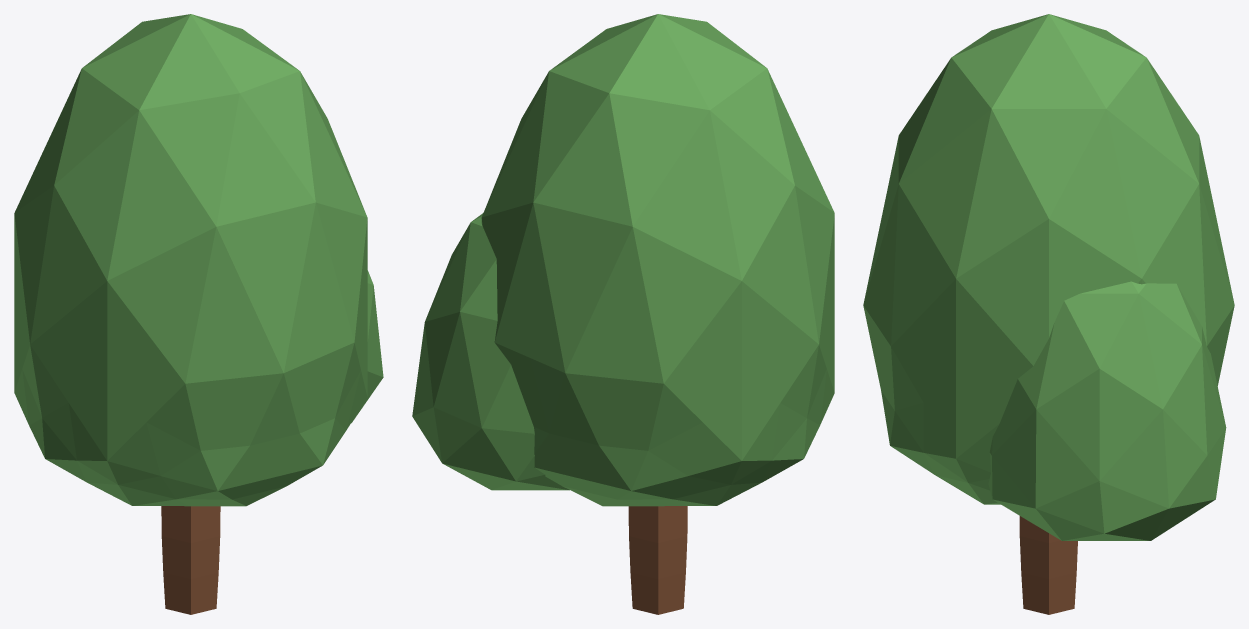
File: tree.glb
The picture shows the model from 3 angles, left to right: view 1: azimuth 30°, elevation 25°; view 2: azimuth 150°, elevation 25°; view 3: azimuth 270°, elevation 25°; orthographic projection.
Visible parts, largest first — view 1: tree_leaf, tree_trunk; view 2: tree_leaf, tree_trunk; view 3: tree_leaf, tree_trunk.
Part boxes in pixels (x1,y1,x2,y2): tree_leaf: (14,14,383,506); tree_trunk: (161,506,220,614); tree_leaf: (412,14,834,506); tree_trunk: (628,506,687,614); tree_leaf: (863,14,1234,540); tree_trunk: (1019,516,1077,614).
Size of the model in its own units: 5.11 by 8 by 4.58.
